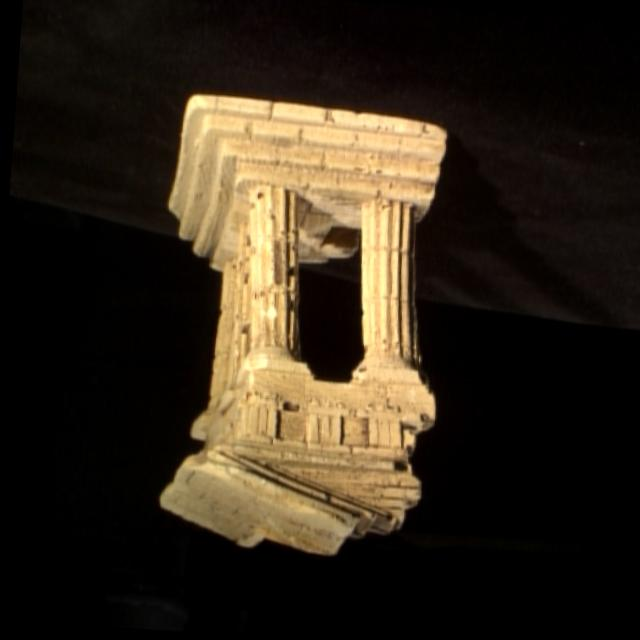Instance-Segmentation: (159, 95, 444, 553)
